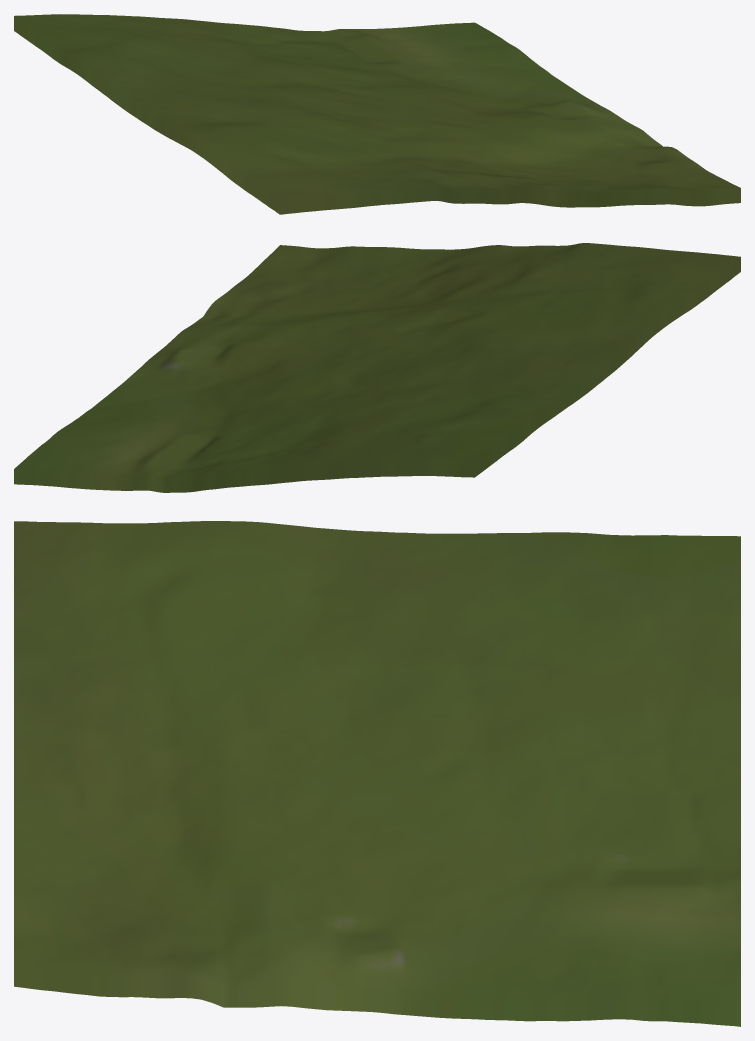
The model's file is terrain_6_-15.glb.
3 renders of one model, top to bottom at view 1: azimuth 30°, elevation 25°; view 2: azimuth 150°, elevation 25°; view 3: azimuth 270°, elevation 25°, orthographic. The views are drawn at different scales.
Visible parts, largest first — view 1: terrain_6_-15; view 2: terrain_6_-15; view 3: terrain_6_-15.
Boxes of the visible parts, box(x1,y1,x2,y2) form: terrain_6_-15: box(14, 14, 740, 214); terrain_6_-15: box(14, 243, 740, 492); terrain_6_-15: box(14, 521, 740, 1026).
Bounding box in the file's own units: 256 × 77.2 × 256.
